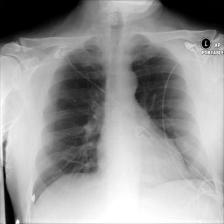normal: (29, 32, 218, 206)
